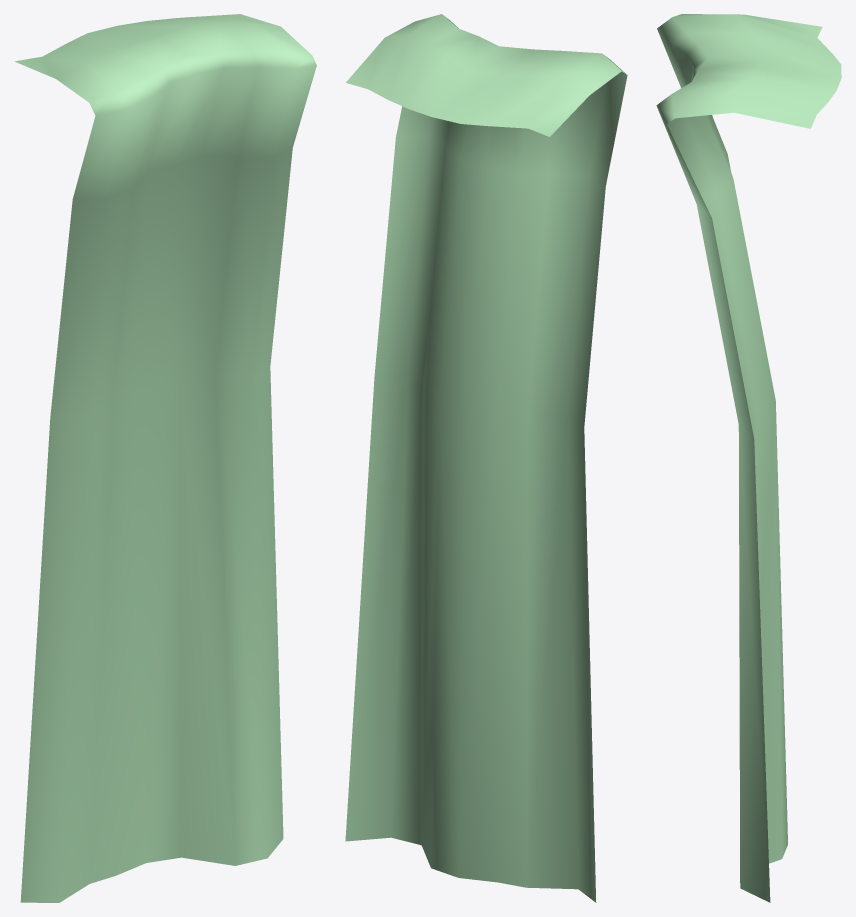
3 renders of one model, left to right at view 1: azimuth 30°, elevation 25°; view 2: azimuth 150°, elevation 25°; view 3: azimuth 270°, elevation 25°, orthographic. The views are drawn at different scales.
Parts seen in each view (by area): view 1: Object12; view 2: Object12; view 3: Object12.
Part boxes in pixels (bbox=[...]): Object12: bbox=[14, 14, 316, 902]; Object12: bbox=[345, 14, 627, 902]; Object12: bbox=[656, 14, 841, 902].
Bounding box in the file's own units: 13990 × 42913 × 9109.
